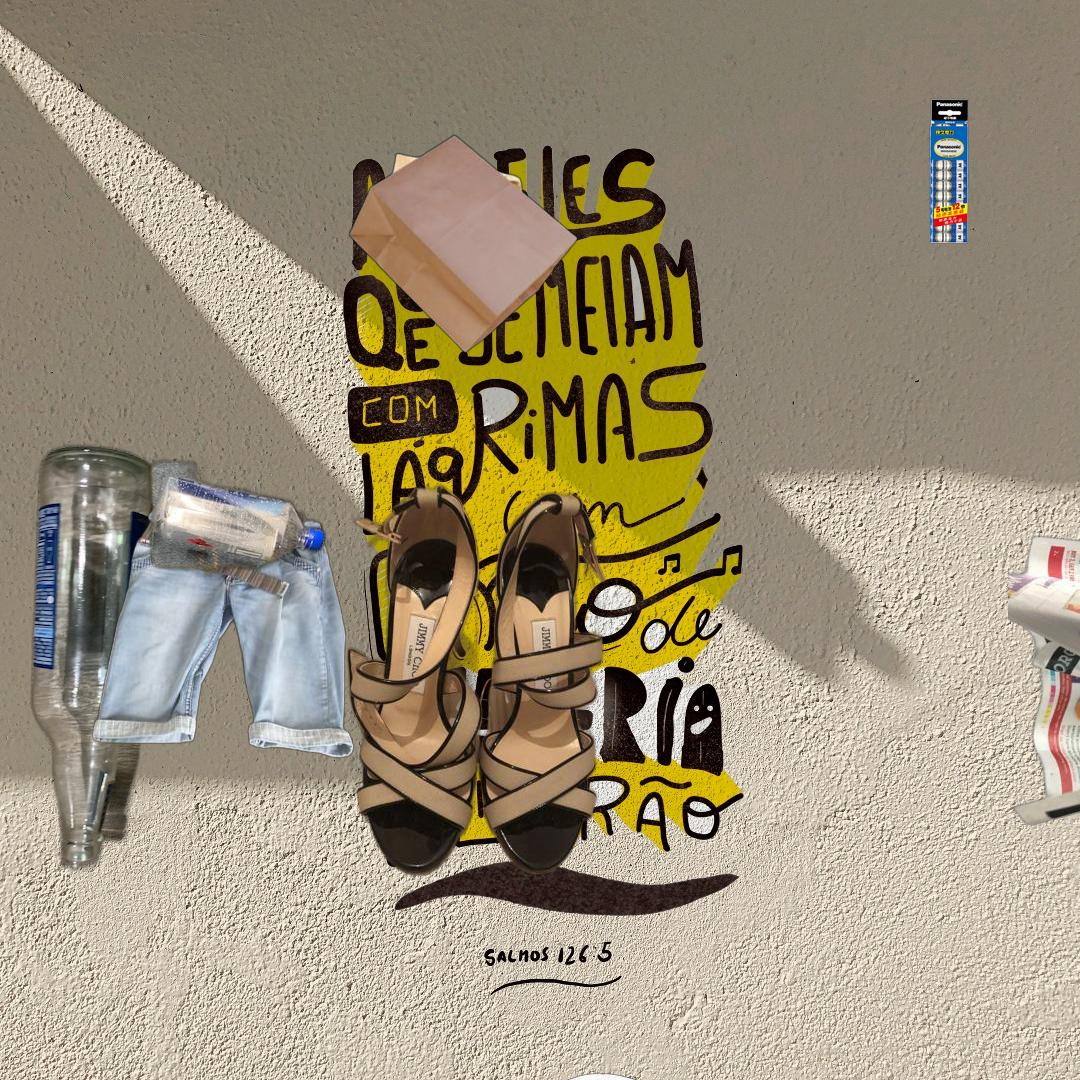battery: (926, 97, 971, 246)
biological: (516, 1071, 710, 1080)
clothes: (88, 502, 357, 761)
glass: (16, 440, 162, 949)
paper: (1008, 533, 1080, 859)
paper-bag: (347, 134, 581, 356)
plastic-bottles: (142, 455, 331, 590)
shoes: (344, 481, 608, 880)
